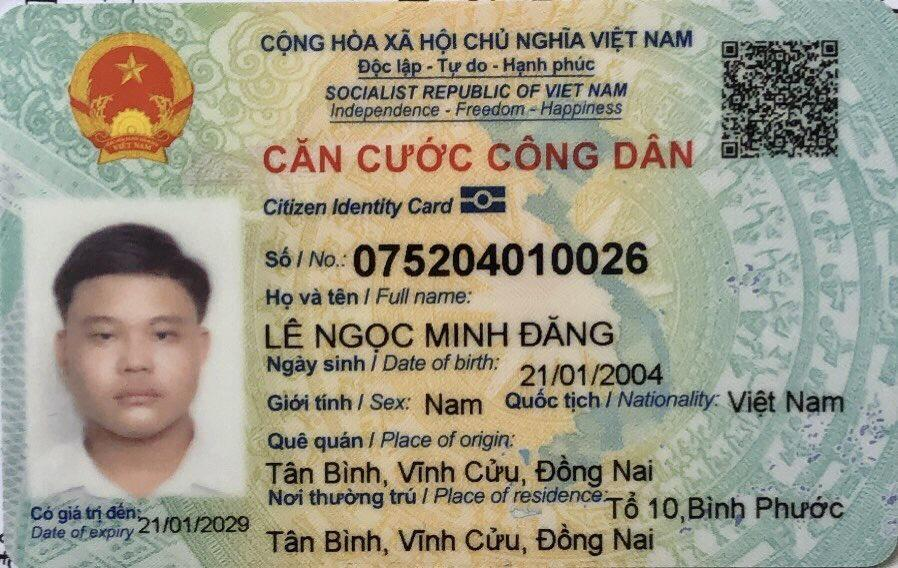ID: (346, 235, 660, 284)
birth: (508, 352, 676, 393)
name: (258, 314, 628, 353)
place: (261, 455, 666, 490)
residence: (258, 520, 662, 561), (603, 486, 849, 529)
